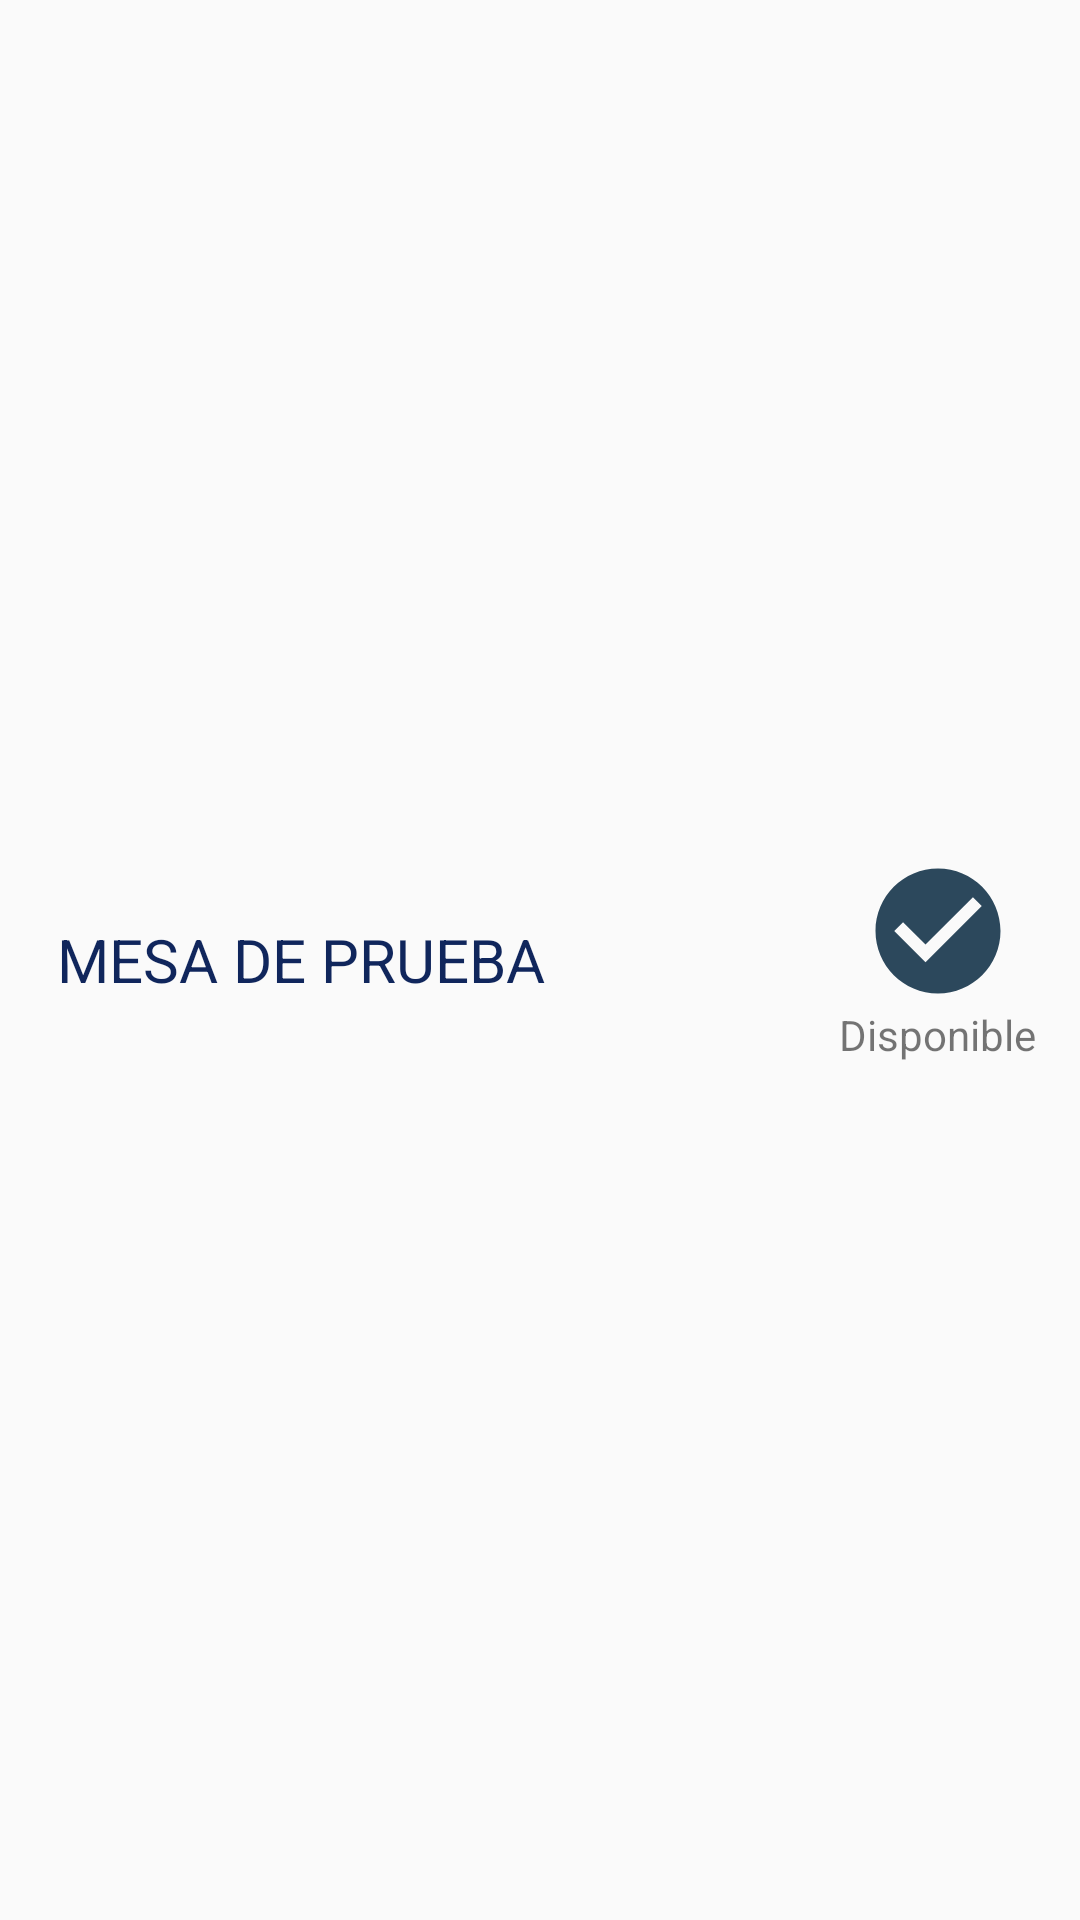

Point at icon controls on the screen. Image size 1080px×1920px, points as point (x, y).
check circle: point (938, 931)
